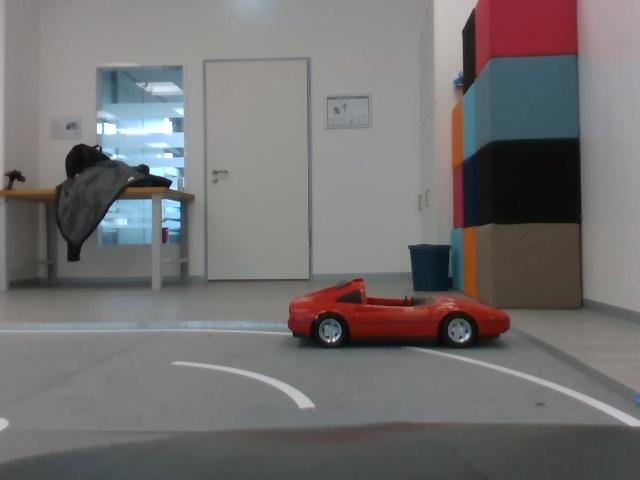car: (285, 273, 513, 358)
